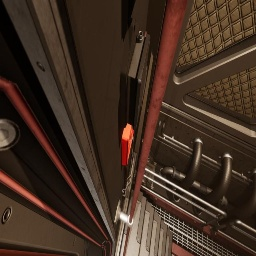FireAlarm ,: (122, 123, 134, 166)
